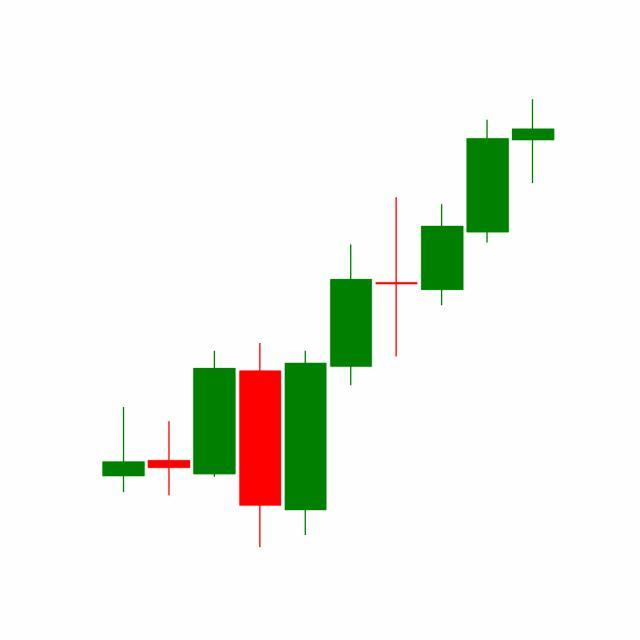Hikkake Pattern: (283, 116, 512, 541)
